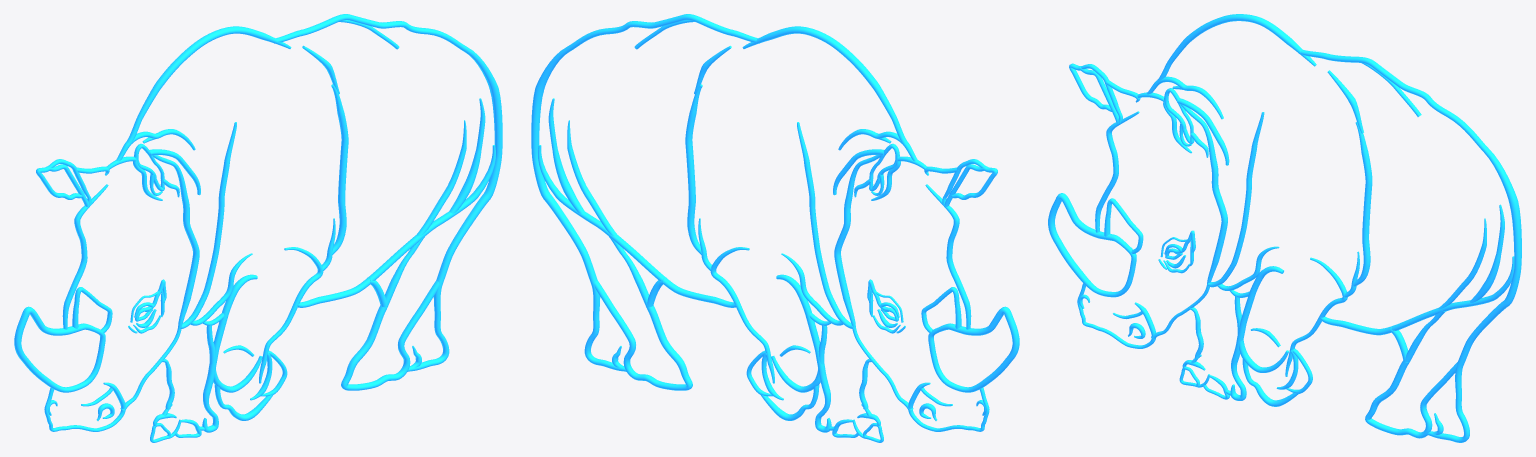
Rendered from rhino-constellation-dhazele-2.glb.
3 views of the same model, side by side, from view 1: azimuth 30°, elevation 25°; view 2: azimuth 150°, elevation 25°; view 3: azimuth 330°, elevation 25° (orthographic). The views are drawn at different scales.
Visible parts, largest first — view 1: rhino; view 2: rhino; view 3: rhino.
Part boxes in pixels (bbox=[...]): rhino: bbox=[14, 14, 502, 442]; rhino: bbox=[531, 14, 1019, 442]; rhino: bbox=[1048, 14, 1521, 442].
Size of the model in its own units: 3.4 by 2.68 by 0.0632.
